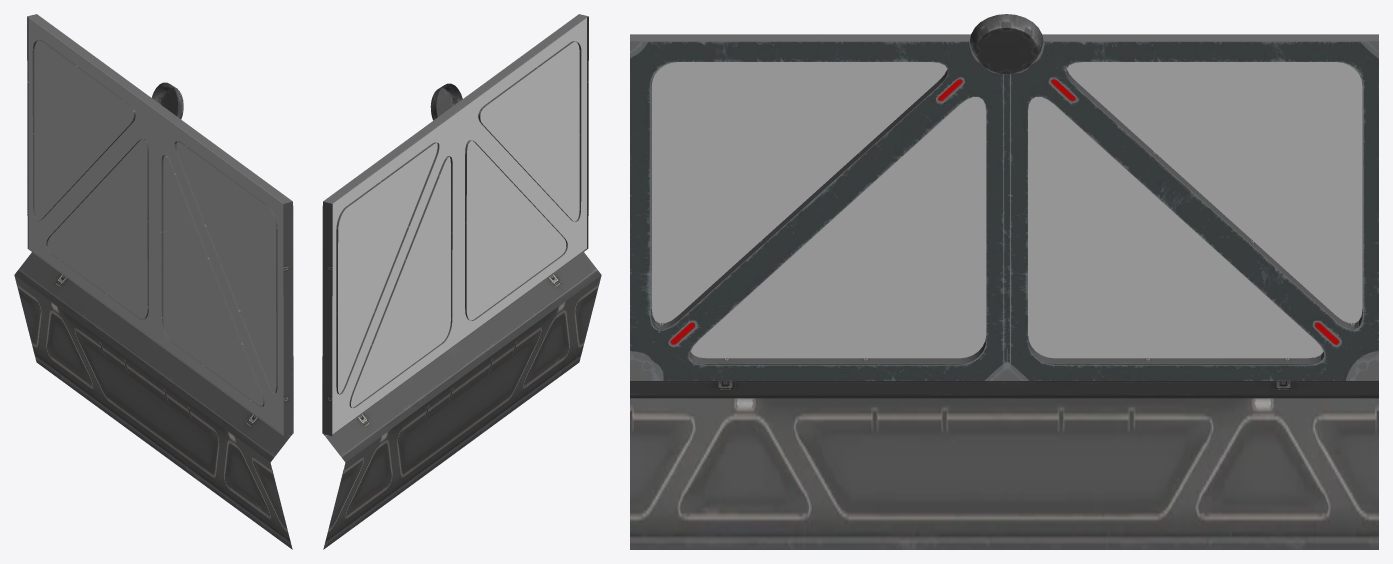
Rendered from WallWindow_Straight.glb.
3 views of the same model, side by side, from view 1: azimuth 30°, elevation 25°; view 2: azimuth 150°, elevation 25°; view 3: azimuth 270°, elevation 25° (orthographic). The views are drawn at different scales.
Visible parts, largest first — view 1: WallWindow_Straight; view 2: WallWindow_Straight; view 3: WallWindow_Straight.
Part boxes in pixels (x1,y1,x2,y2): WallWindow_Straight: (14,14,293,549); WallWindow_Straight: (322,14,601,549); WallWindow_Straight: (630,14,1378,549).
Size of the model in its own units: 0.3198 by 3.19 by 4.
4 materials, 3 textured.
